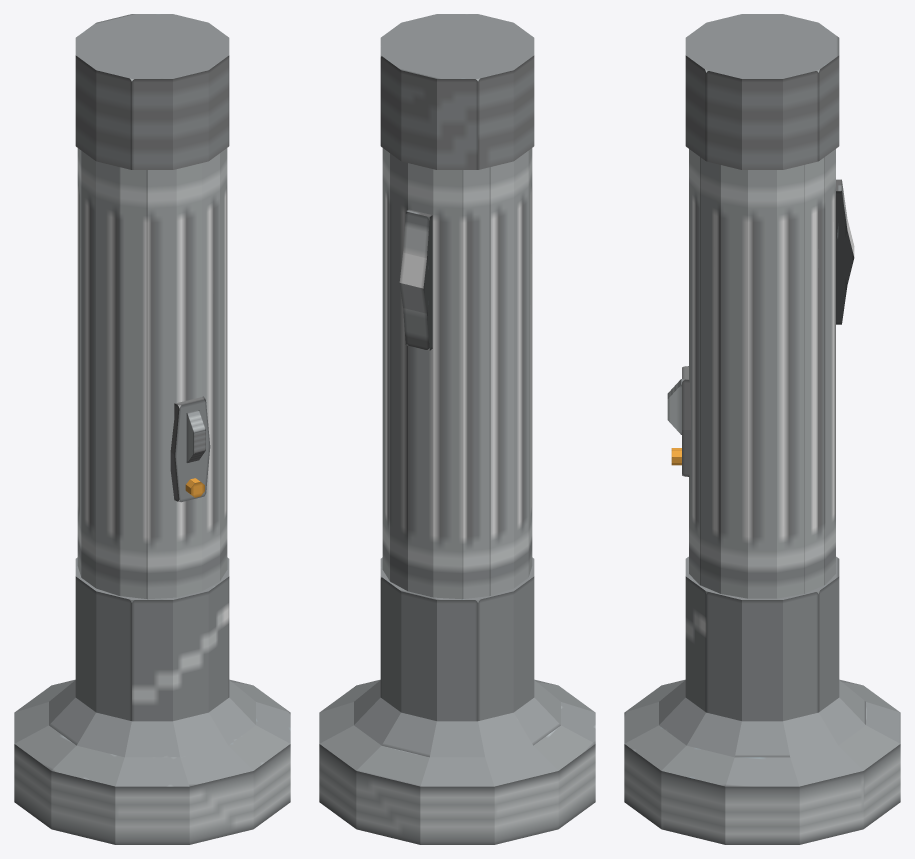
File: Flashlight.fbx
3 views of the same model, side by side, from view 1: azimuth 30°, elevation 25°; view 2: azimuth 150°, elevation 25°; view 3: azimuth 270°, elevation 25° (orthographic).
Parts seen in each view (by area): view 1: Base, Upper Cover, Lid, Upper Cover Ring, Switch Base, Switch; view 2: Base, Upper Cover, Lid, Upper Cover Ring, Holder; view 3: Base, Upper Cover, Lid, Upper Cover Ring, Holder, Switch Base, Switch.
Part boxes in pixels (box(x1,y1,x2,y2)): Base: box(77, 78, 227, 602); Upper Cover: box(14, 679, 290, 844); Lid: box(75, 14, 229, 169); Upper Cover Ring: box(75, 557, 229, 721); Switch Base: box(170, 396, 210, 502); Switch: box(186, 410, 205, 462); Base: box(382, 78, 532, 602); Upper Cover: box(319, 679, 595, 844); Lid: box(380, 14, 534, 169); Upper Cover Ring: box(380, 557, 534, 721); Holder: box(399, 209, 432, 350); Base: box(689, 69, 835, 598); Upper Cover: box(624, 679, 900, 844); Lid: box(685, 14, 839, 169); Upper Cover Ring: box(685, 556, 839, 721); Holder: box(836, 179, 854, 324); Switch Base: box(682, 366, 690, 476); Switch: box(667, 379, 684, 434).
Size of the model in its own units: 9.38 by 27.72 by 9.38.
1 material, 1 textured.
